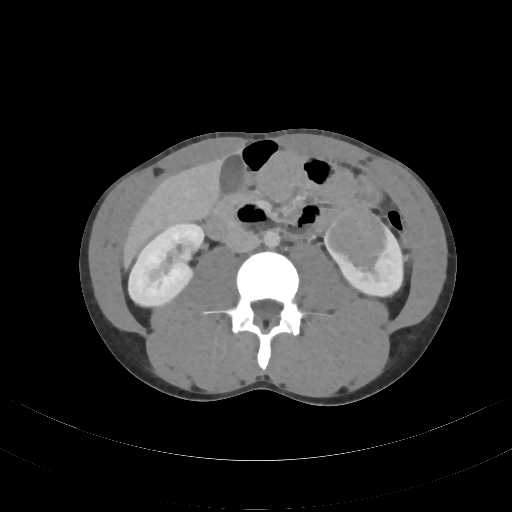Lesion: (323, 207, 391, 273)
